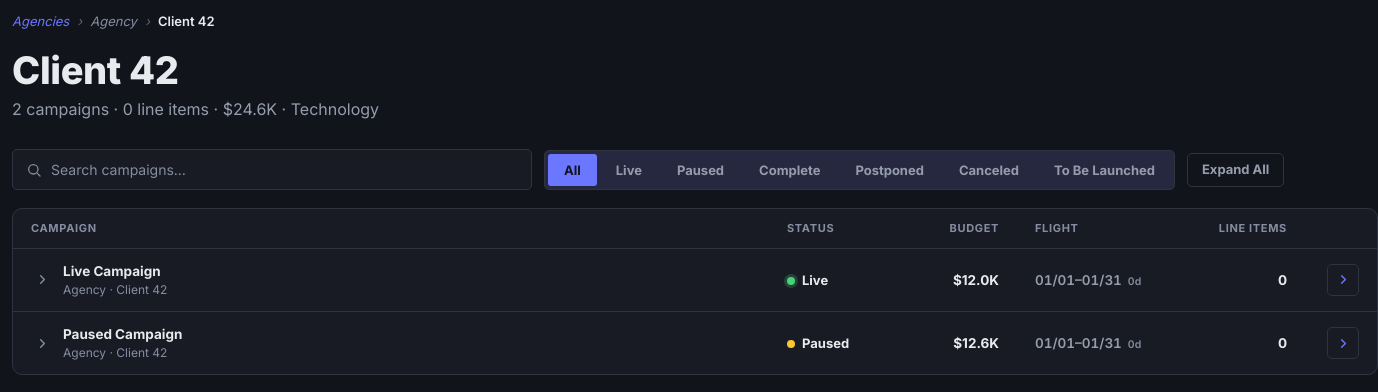
Test: Campaigns › should filter the visible campaigns by status segment
Expected: the text "Live Campaign" is shown, [63,261,167,281]
Expected: the text "Paused Campaign" is shown, [63,324,182,344]
Click the button "Paused": x=701, y=170 [661,154,740,186]
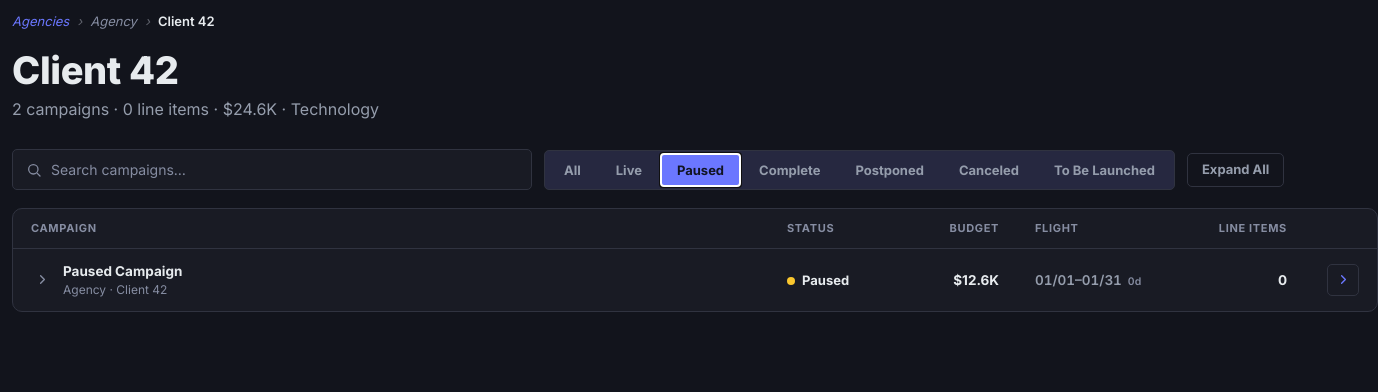
Expected: the text "Paused Campaign" is shown, [63,261,182,281]
Now the text "Live Campaign" is gone
